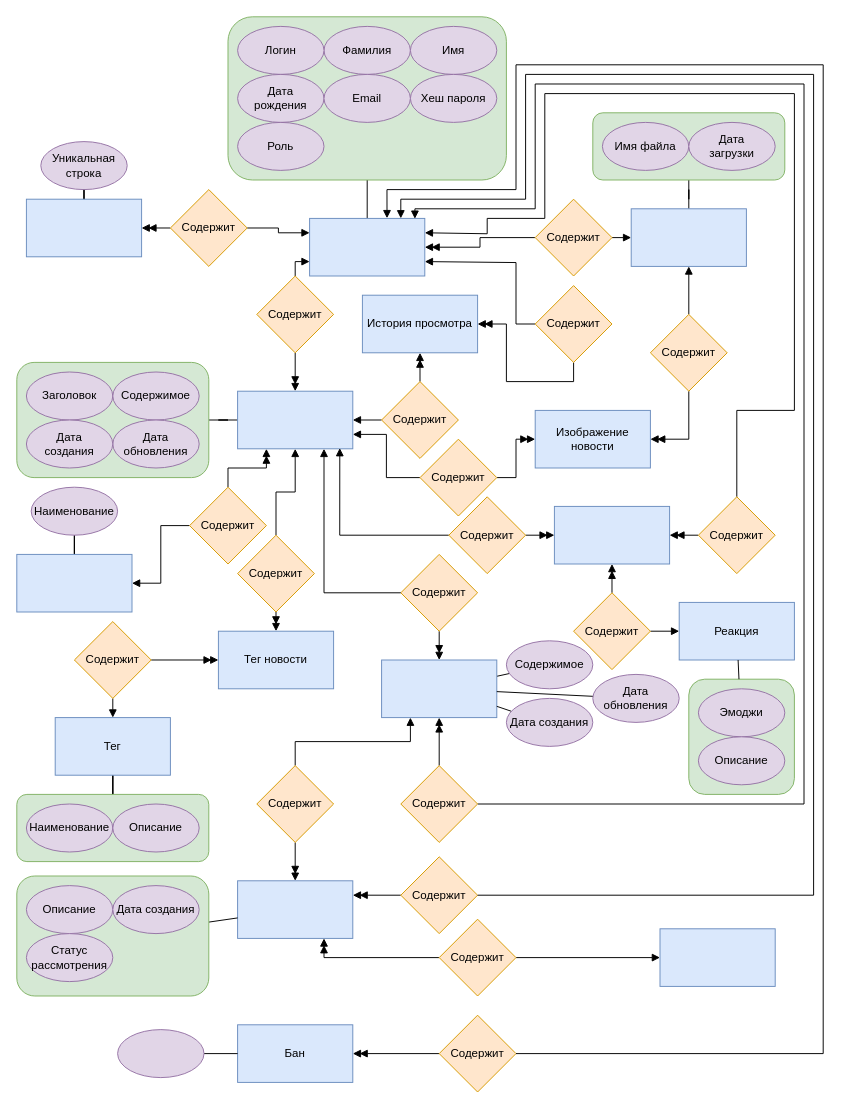
The diagram is 848 pixels wide and 1109 high, and some of its shapes have lost their labels. The shapes that lost their labels are listed below. From the top down, each one's centre as x and y in pixels, then its label:
point (83, 227): Токен
point (367, 246): Пользователь
point (688, 237): Изображение
point (295, 419): Новость
point (611, 534): Реакция пользователя
point (74, 582): Город
point (439, 688): Комментарий
point (295, 909): Жалоба
point (717, 957): Причина
point (160, 1053): Дата завершения
